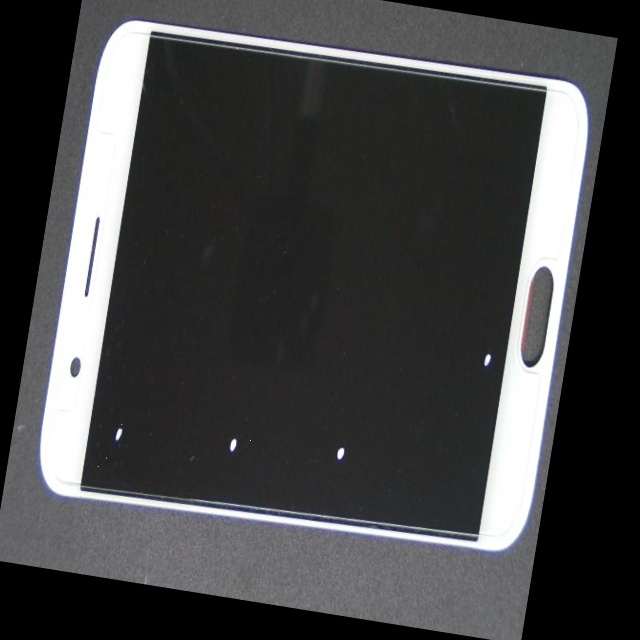stain: (144, 185, 514, 633), (224, 149, 592, 567), (58, 193, 357, 609), (37, 153, 192, 581)
